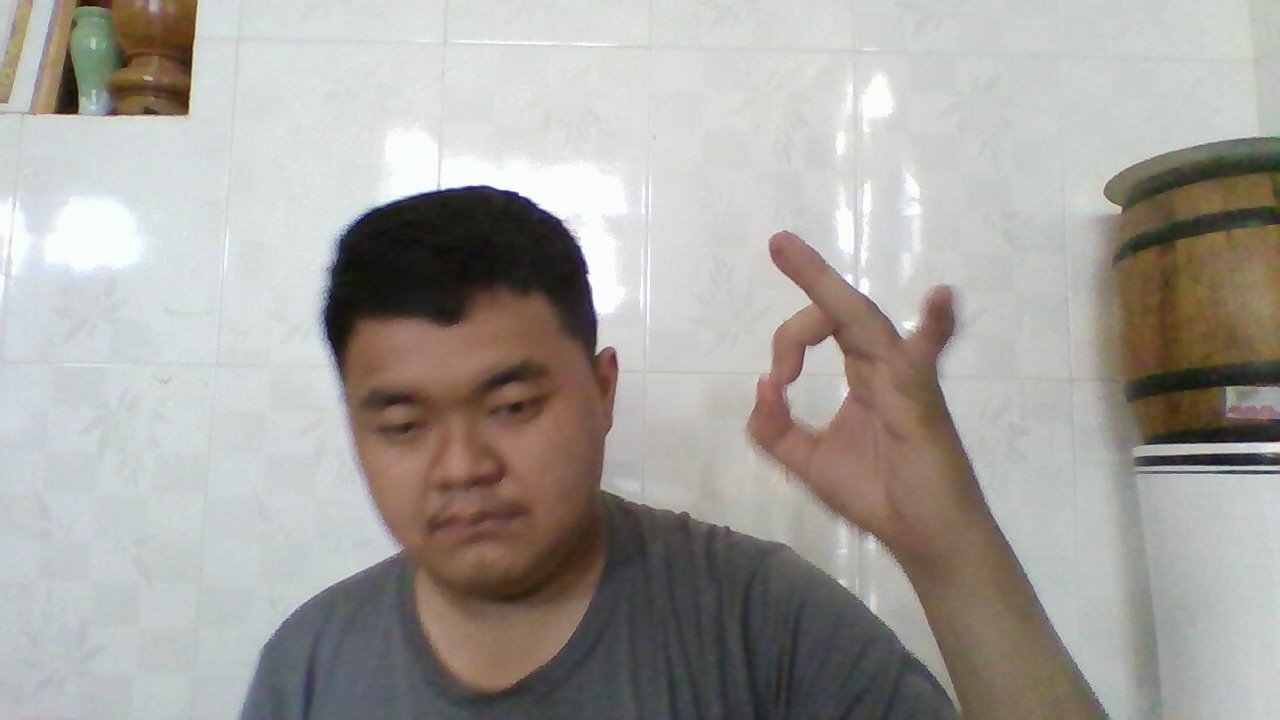H: (748, 231, 965, 543)
